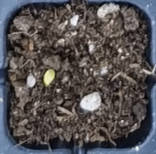pepper seed: (13, 25, 70, 113)
